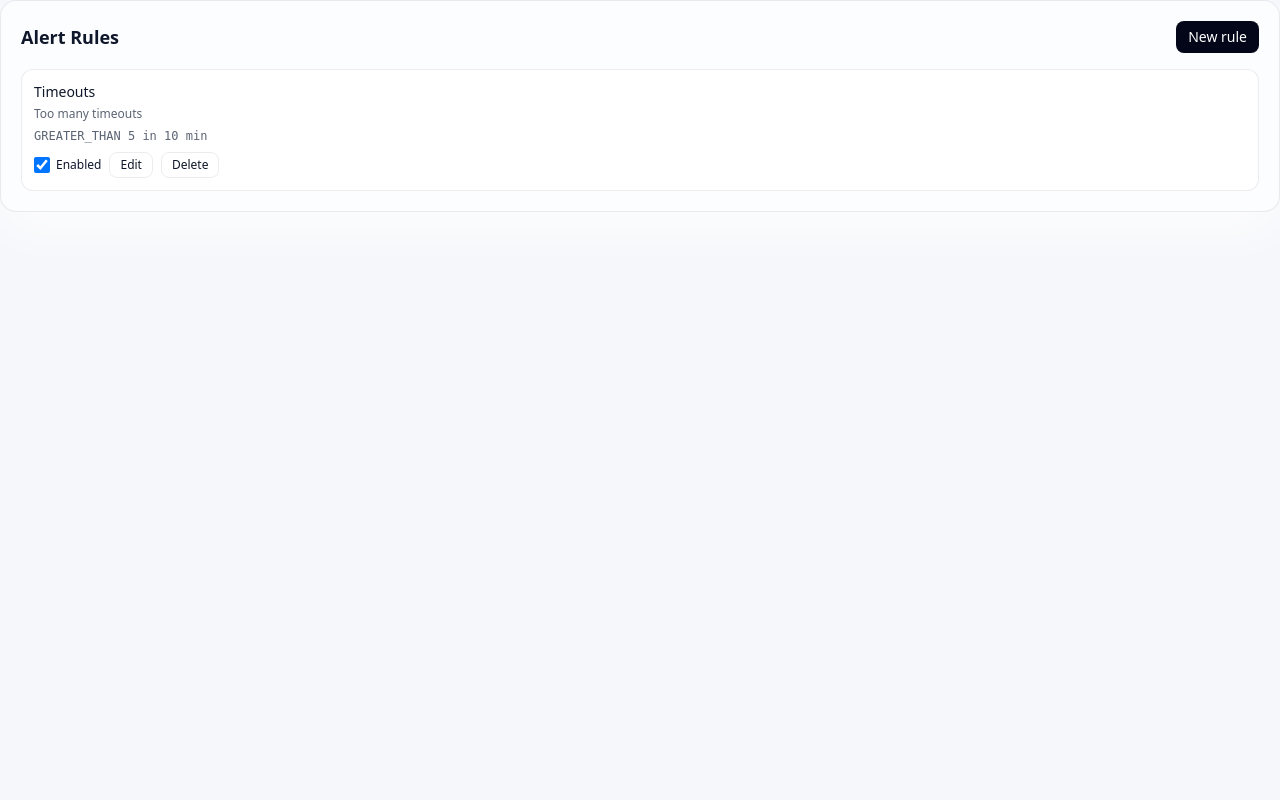
AlertRulesPanel › does not delete when the confirm dialog is cancelled
Click the button "Delete".
click(190, 165)  # box [161,152,219,178]
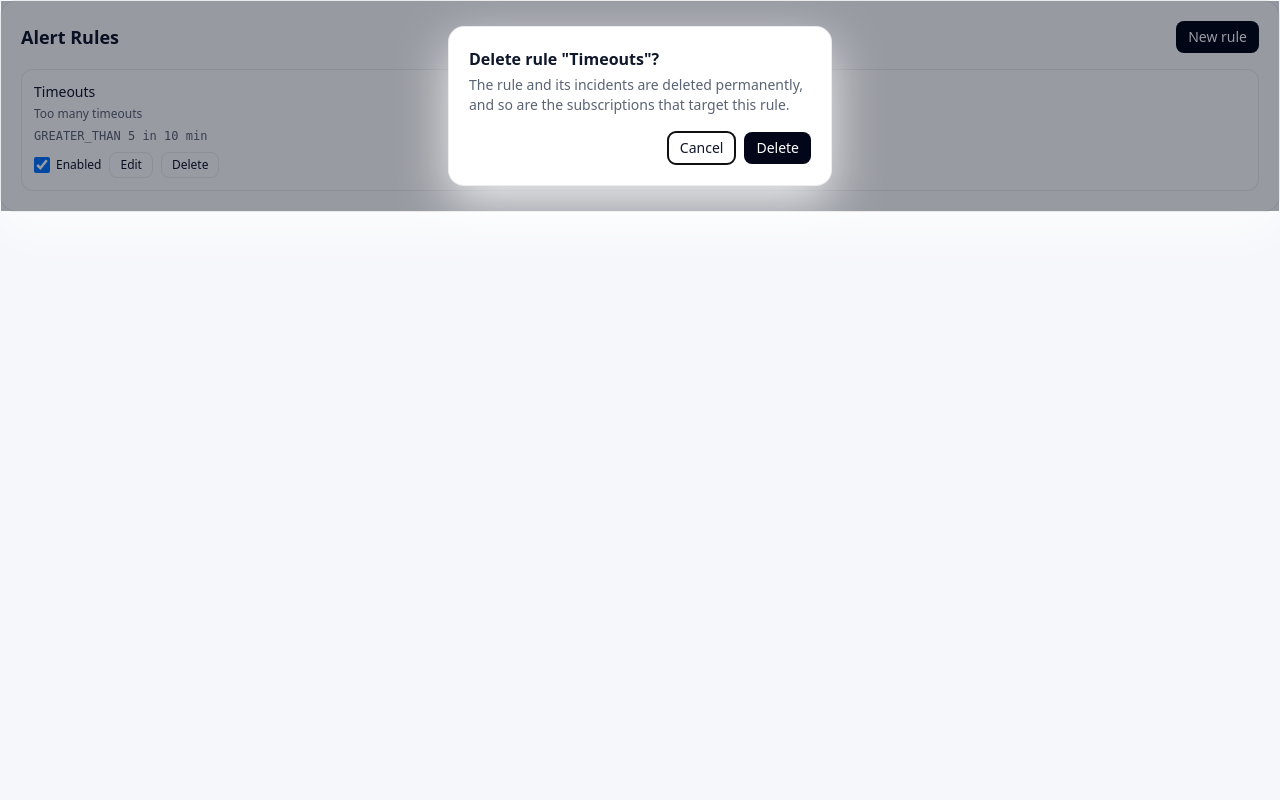
Click the button "Cancel".
click(702, 148)  # box [667,131,736,165]
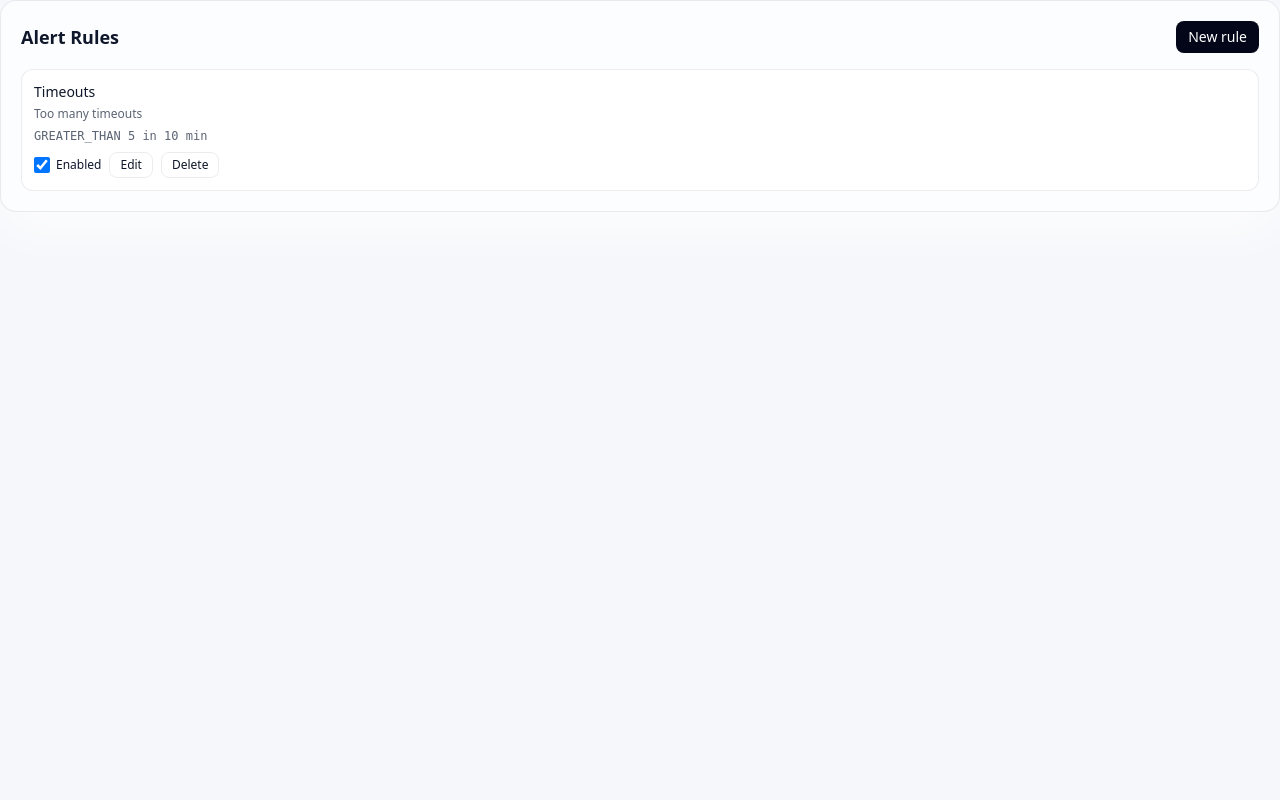
Check: the heading "Delete rule" is gone
